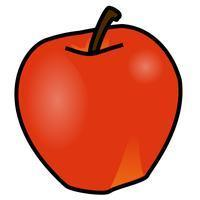apple: (20, 6, 185, 195)
